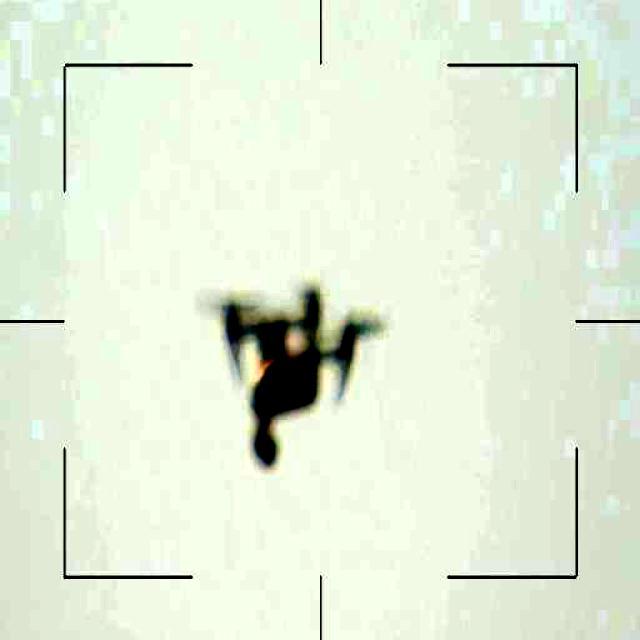bird: (214, 279, 362, 471)
